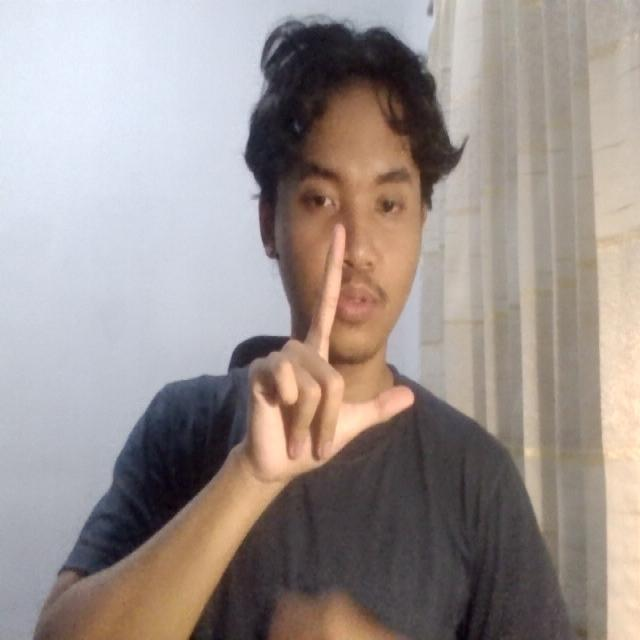I: (210, 214, 440, 498)
